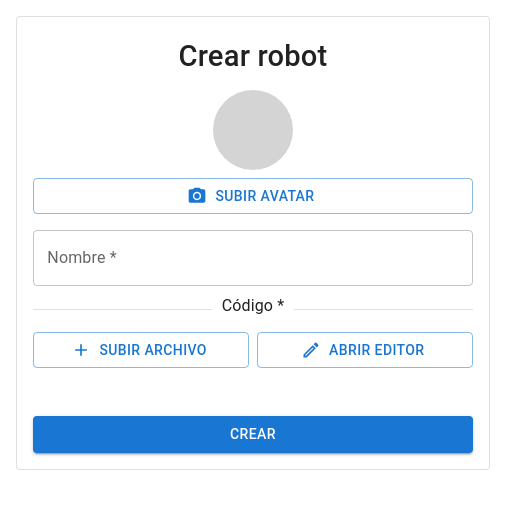
Test: Open editor and fail if no code provided
Click the field labelled "Nombre *" at [253, 258], box 33,230 -> 473,286
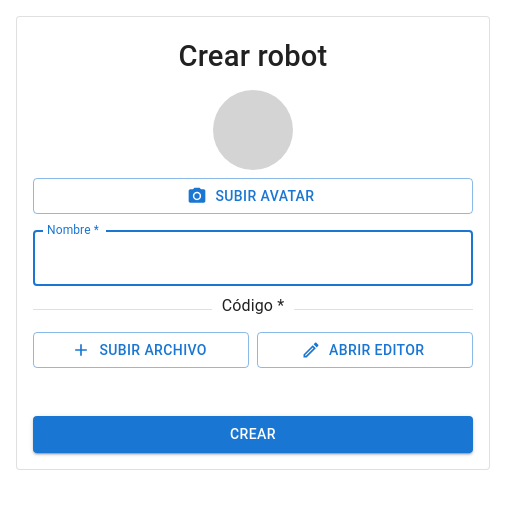
Type keys "robot"
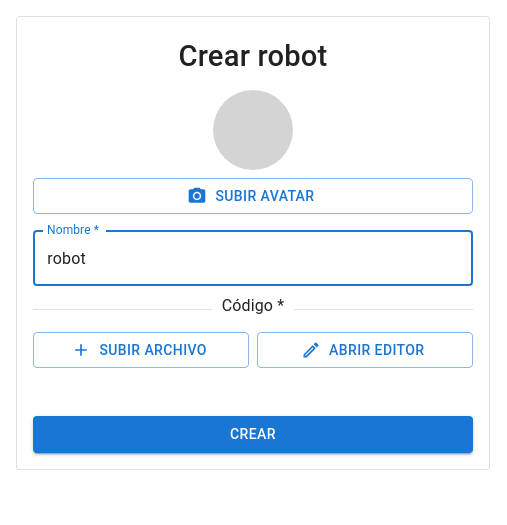
Click the button "Abrir editor" at [365, 350], box 257,332 -> 473,368
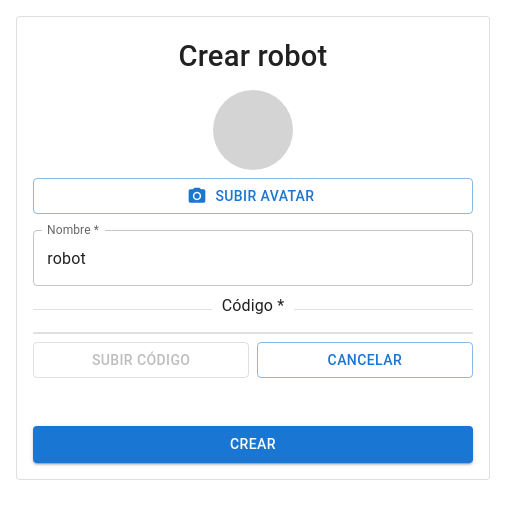
Expected: the button "Subir Código" is disabled, 33,342 -> 249,378
Click the button "Crear" at [253, 445], box 33,426 -> 473,463
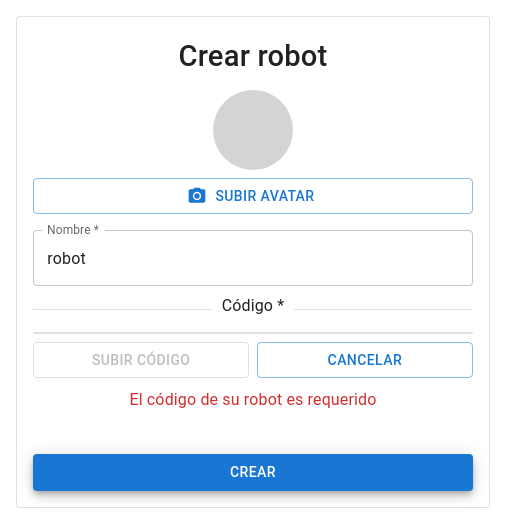
Expected: the text "El código de su robot es requerido" is shown, 129,390 -> 376,409
